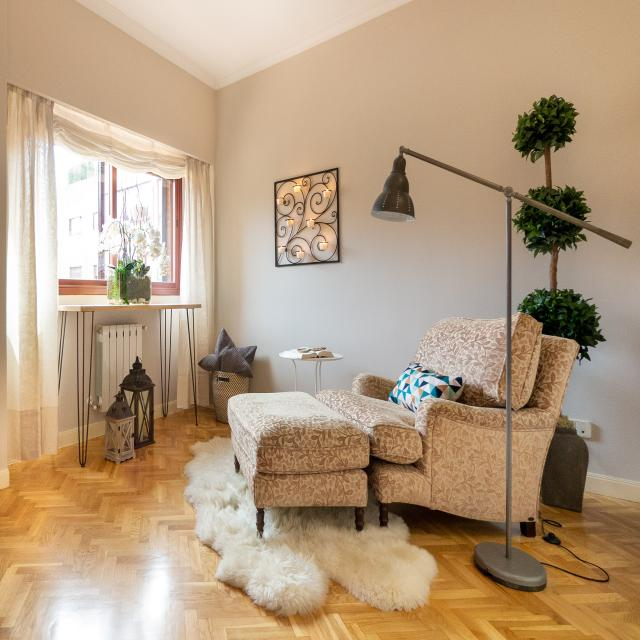floor: (0, 404, 640, 640)
wall: (213, 0, 640, 503), (90, 309, 164, 419), (57, 311, 78, 450), (167, 309, 185, 415), (84, 312, 92, 441), (78, 312, 83, 442), (58, 311, 66, 388), (166, 309, 171, 414), (161, 309, 165, 414), (58, 311, 63, 366)
